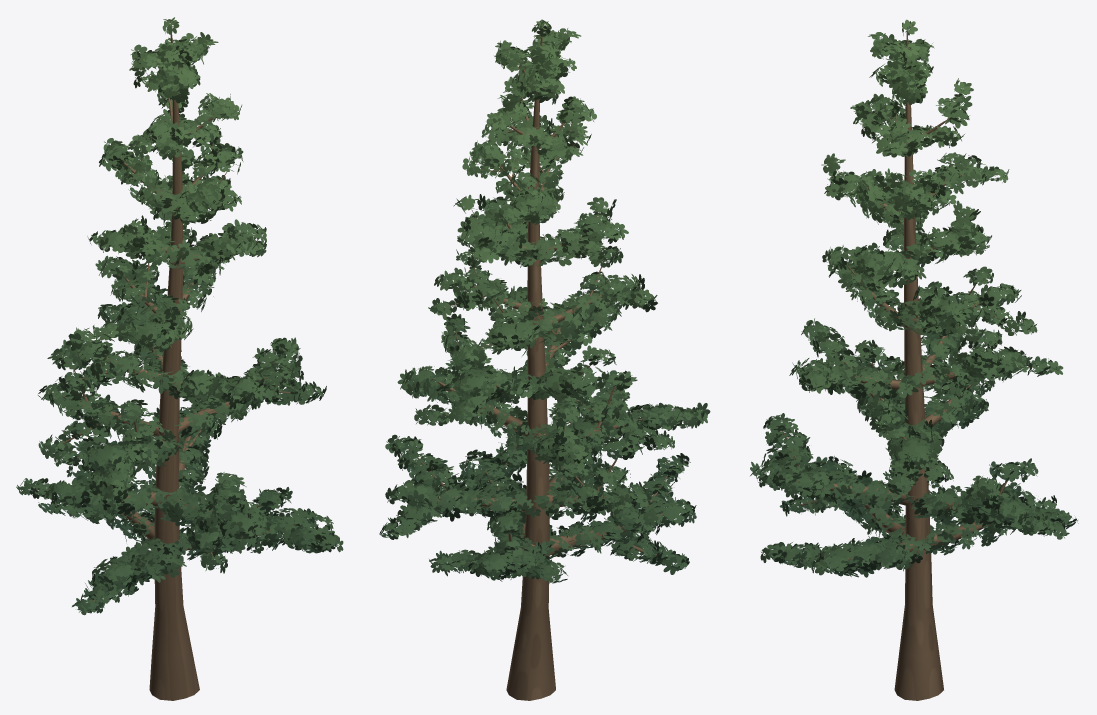
File: tree.gltf
3 views of the same model, side by side, from view 1: azimuth 30°, elevation 25°; view 2: azimuth 150°, elevation 25°; view 3: azimuth 270°, elevation 25° (orthographic).
Visible parts, largest first — view 1: Tree_LOD0; view 2: Tree_LOD0; view 3: Tree_LOD0.
Boxes of the visible parts, x1,y1,x2,y2 form: Tree_LOD0: (16, 17, 343, 700); Tree_LOD0: (379, 19, 710, 700); Tree_LOD0: (750, 19, 1078, 700).
Size of the model in its own units: 10.12 by 23.23 by 10.63.
2 materials, 2 textured.
